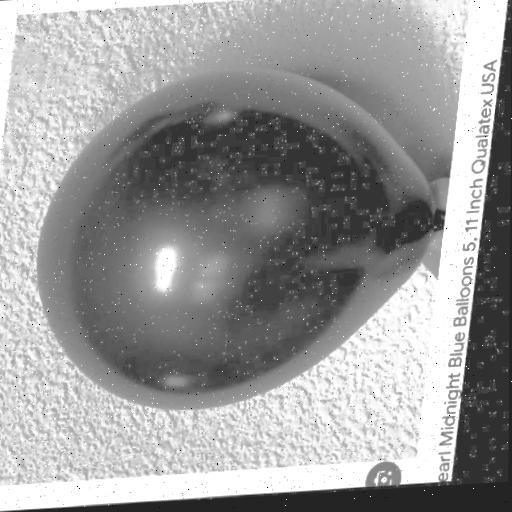balloon: (25, 51, 461, 420)
